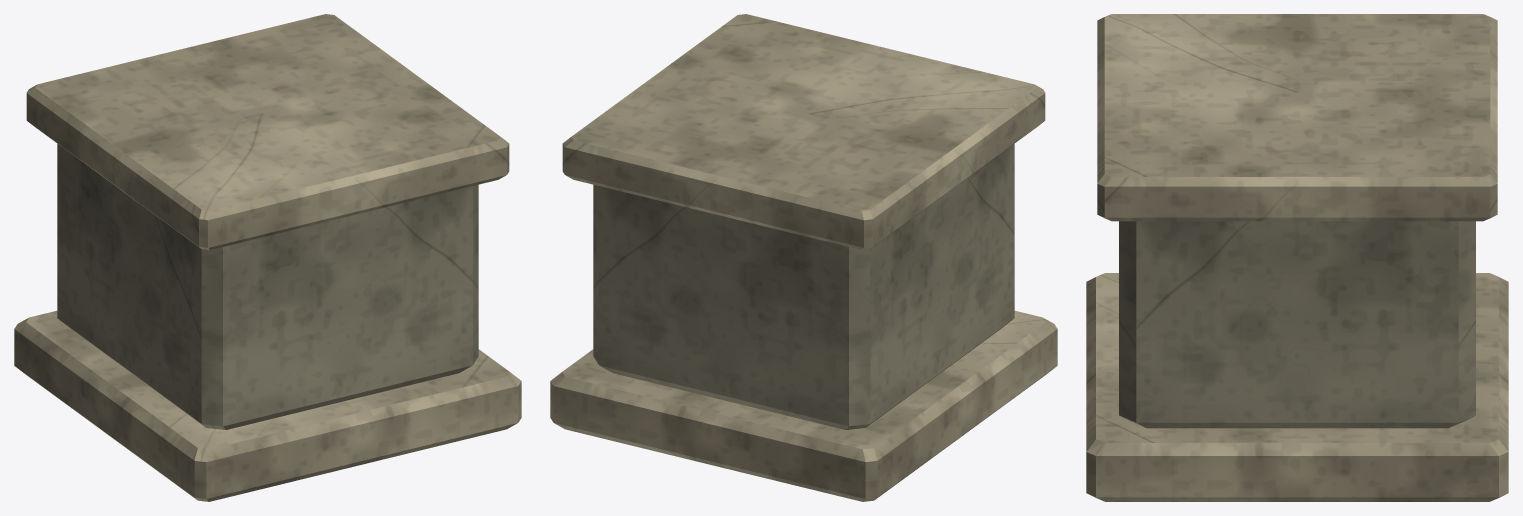
File: b10_brazier_plinth.fbx
The picture shows the model from 3 angles, left to right: view 1: azimuth 30°, elevation 25°; view 2: azimuth 150°, elevation 25°; view 3: azimuth 270°, elevation 25°; orthographic projection. The views are drawn at different scales.
Parts seen in each view (by area): view 1: b10_brazier_plinth; view 2: b10_brazier_plinth; view 3: b10_brazier_plinth.
Boxes of the visible parts, x1,y1,x2,y2 form: b10_brazier_plinth: (14,14,521,501); b10_brazier_plinth: (550,14,1057,501); b10_brazier_plinth: (1086,14,1508,501).
Bounding box in the file's own units: 7800 × 7800 × 6550.
